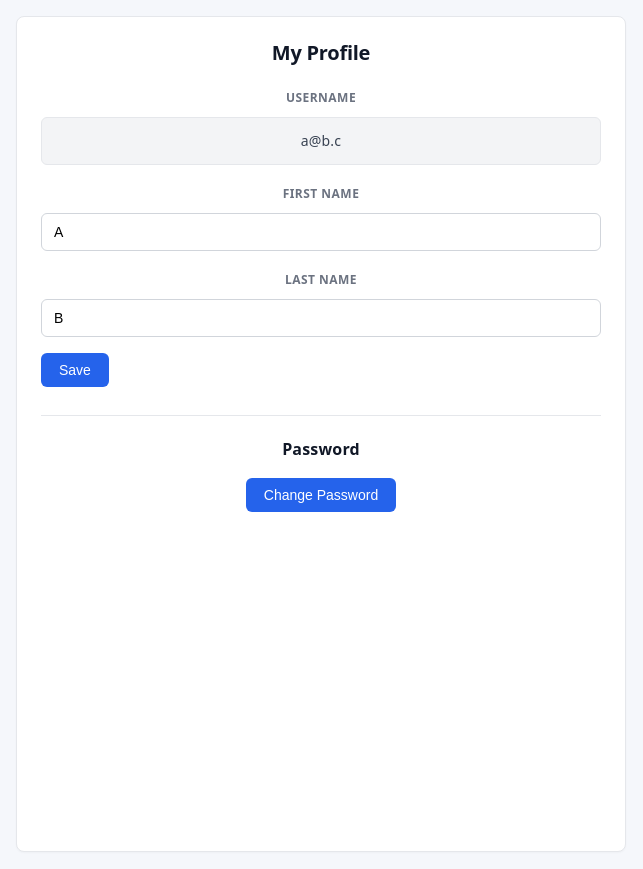
Scenario: Profile page › submits change-password form and shows success
Click the button "Change Password".
click(321, 495)  # box left=246, top=478, right=396, bottom=512
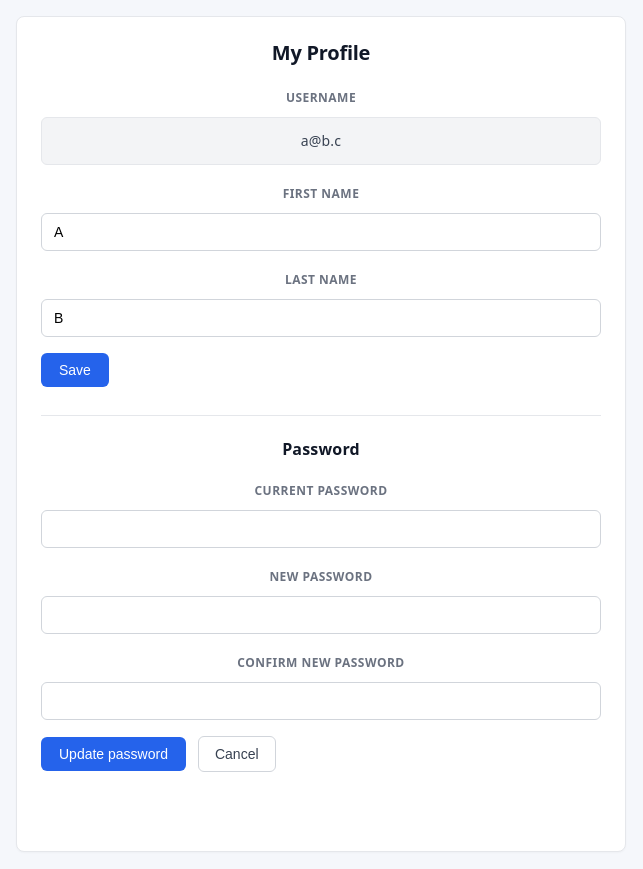
Type "old-pw" into the password field labelled "Current password".
click(321, 529); type("old-pw")  # box left=41, top=510, right=601, bottom=548
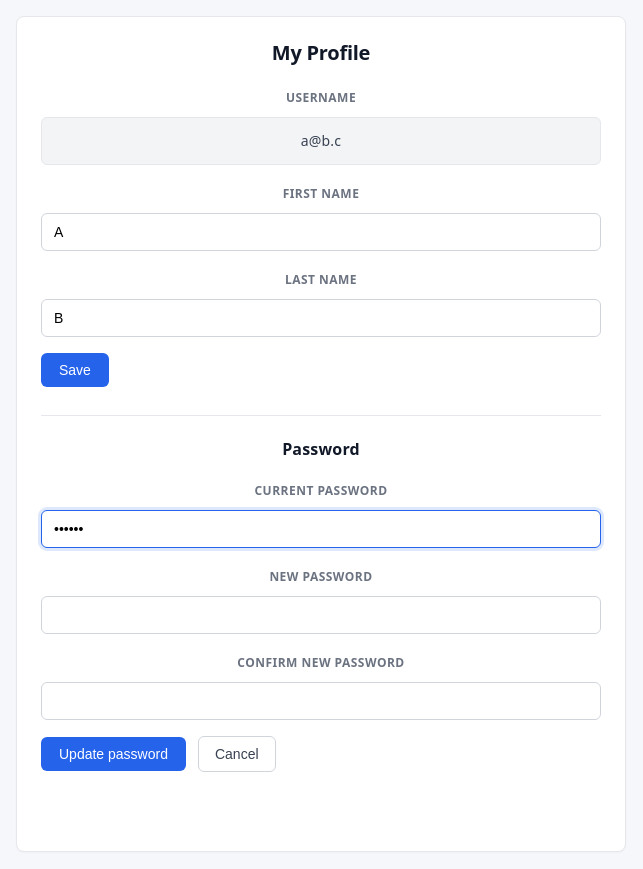
Type "fresh-pw" into the password field labelled "New password".
click(321, 615); type("fresh-pw")  # box left=41, top=596, right=601, bottom=634
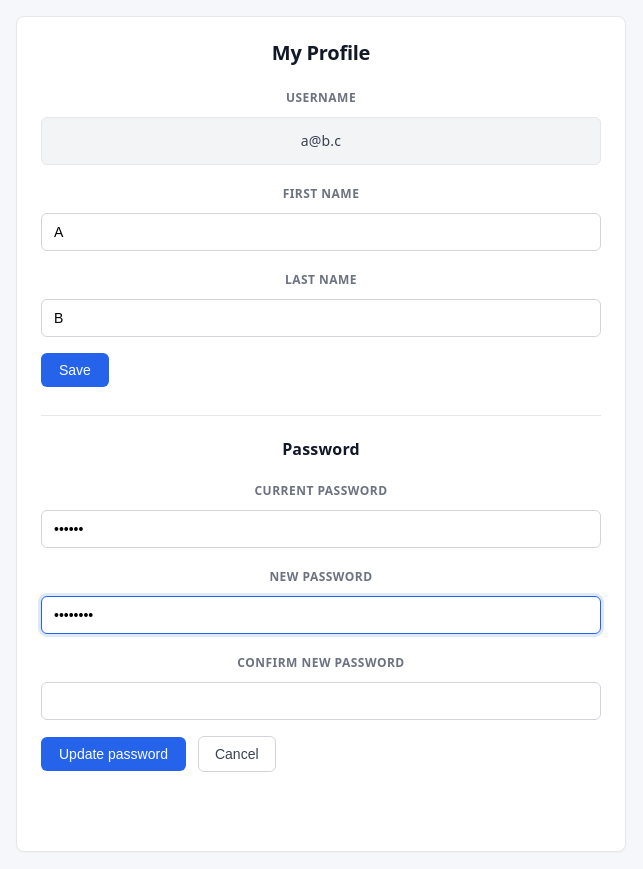
Type "fresh-pw" into the password field labelled "Confirm new password".
click(321, 701); type("fresh-pw")  # box left=41, top=682, right=601, bottom=720
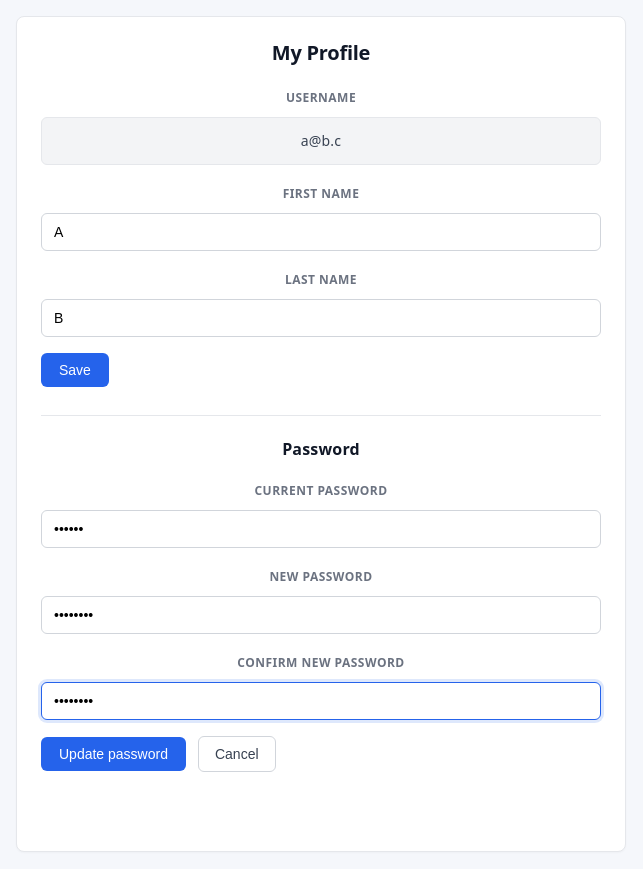
Click the button "Update password".
click(114, 754)  # box left=41, top=737, right=186, bottom=771
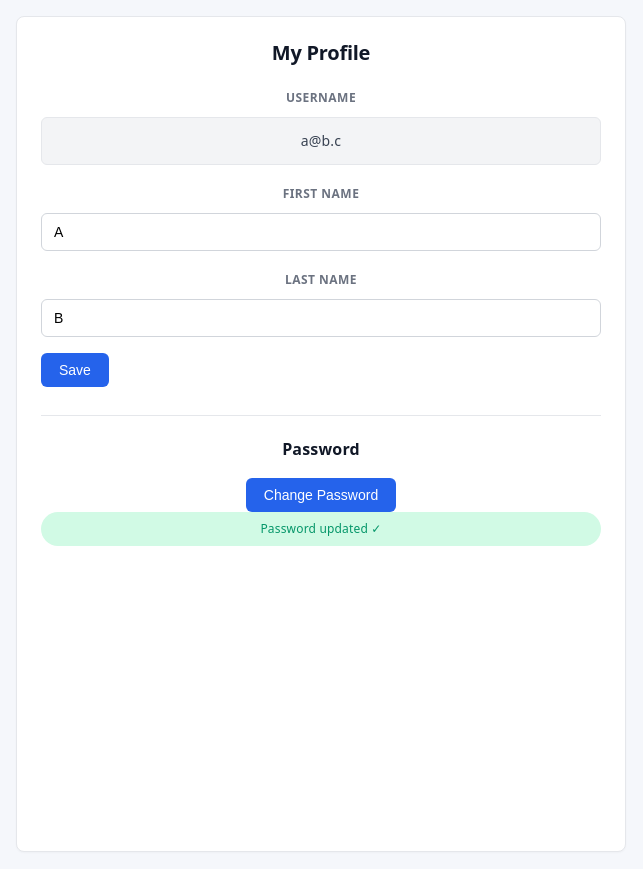
Check: the text "Password updated ✓" is shown, box left=41, top=512, right=601, bottom=546
